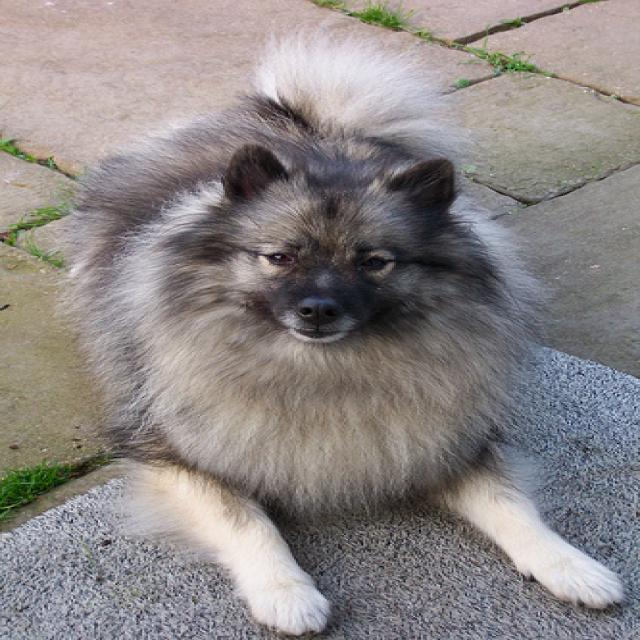dog-keeshond: (52, 32, 630, 637)
